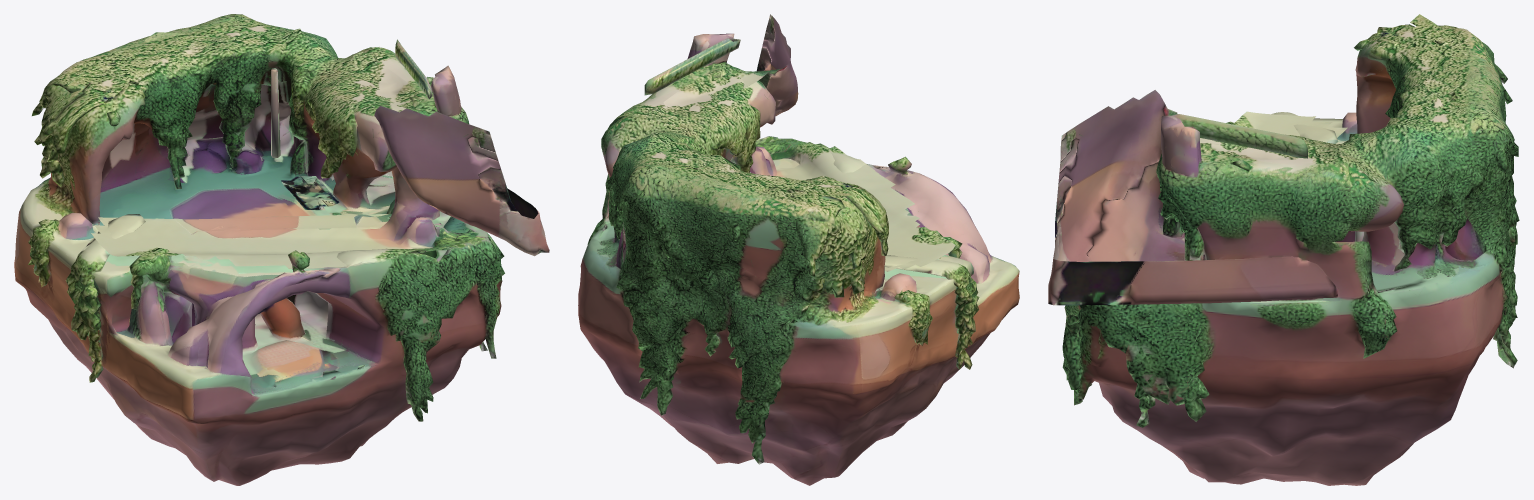
File: Habitat_4 2.glb
3 renders of one model, left to right at view 1: azimuth 30°, elevation 25°; view 2: azimuth 150°, elevation 25°; view 3: azimuth 270°, elevation 25°, orthographic. The views are drawn at different scales.
Bounding box in the file's own units: 1.93 × 1.89 × 1.93.
Materials: 1 (1 with a texture image).
